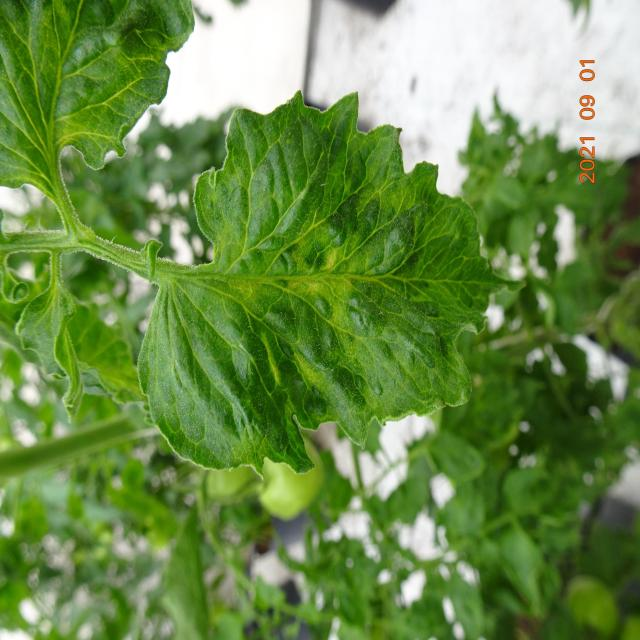T_L_R: (140, 96, 500, 471), (1, 1, 195, 231)
T_S_R: (1, 231, 161, 283)
